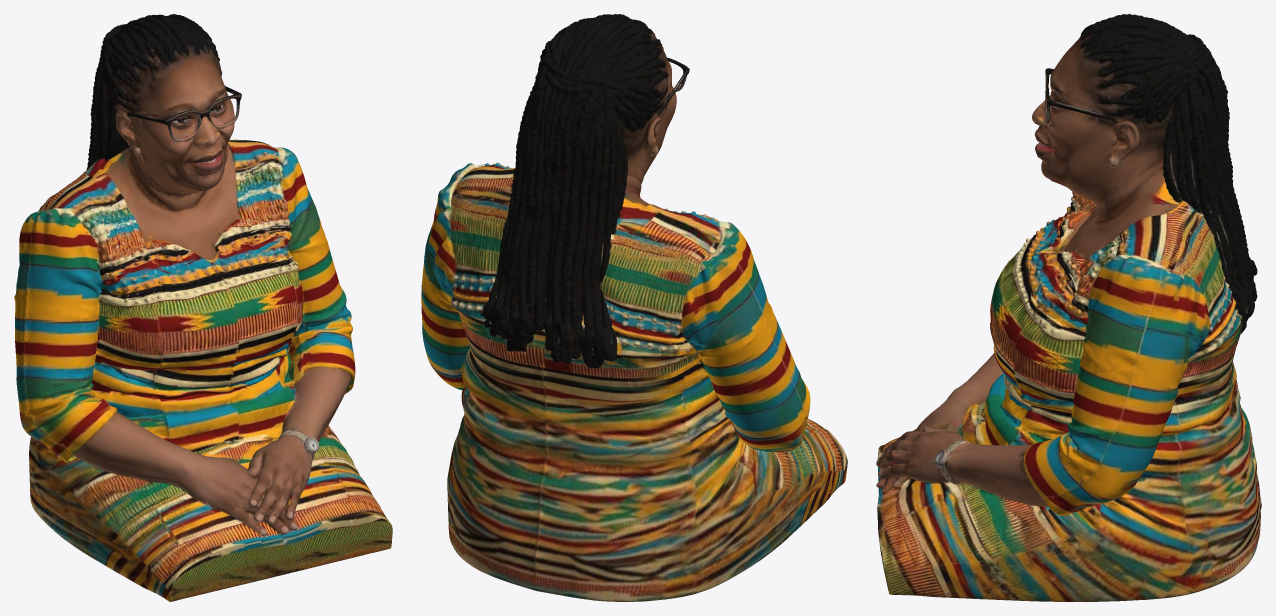
Rendered from vendeuse.glb.
3 renders of one model, left to right at view 1: azimuth 30°, elevation 25°; view 2: azimuth 150°, elevation 25°; view 3: azimuth 270°, elevation 25°, orthographic. The views are drawn at different scales.
Bounding box in the file's own units: 1.39 × 1.9 × 1.29.
1 material, 1 textured.
